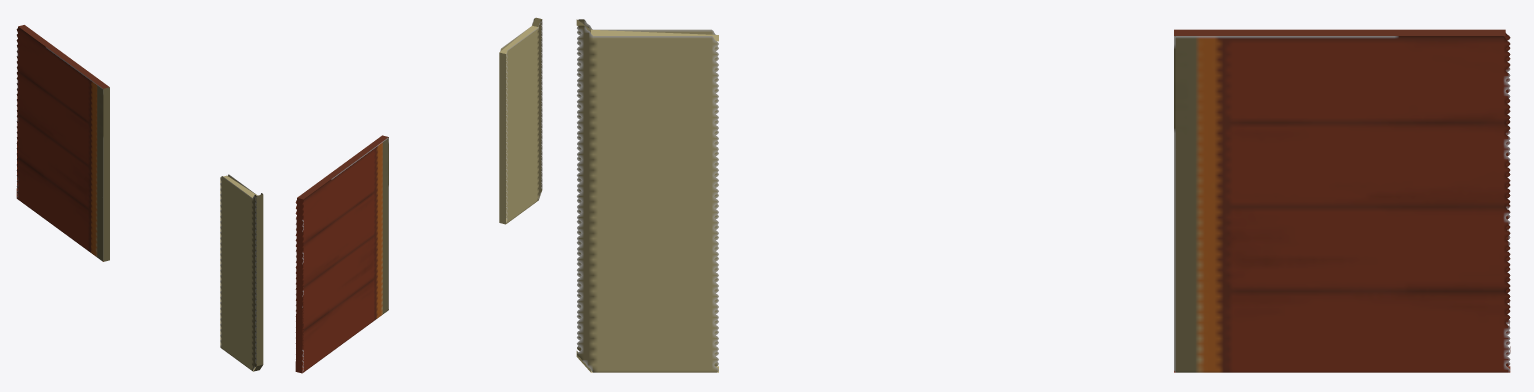
The model's file is pz_native_location_restaurant_spiffos_01_73_frame.obj.
The picture shows the model from 3 angles, left to right: view 1: azimuth 30°, elevation 25°; view 2: azimuth 150°, elevation 25°; view 3: azimuth 270°, elevation 25°; orthographic projection. The views are drawn at different scales.
Parts seen in each view (by area): view 1: pz_native_location_restaurant_spiffos_01_73_frame; view 2: pz_native_location_restaurant_spiffos_01_73_frame; view 3: pz_native_location_restaurant_spiffos_01_73_frame.
Boxes of the visible parts, left/top/right/bottom form: pz_native_location_restaurant_spiffos_01_73_frame: left=16, top=25, right=263, bottom=371; pz_native_location_restaurant_spiffos_01_73_frame: left=295, top=17, right=542, bottom=373; pz_native_location_restaurant_spiffos_01_73_frame: left=576, top=19, right=1510, bottom=372.
Bounding box in the file's own units: 0.04 × 1.06 × 2.55.
1 material, 1 textured.
